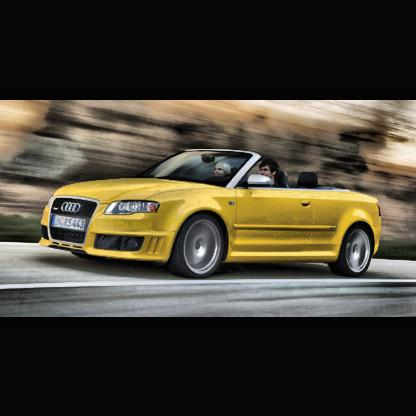Audi RS 4 Convertible 2008: (39, 148, 384, 279)
